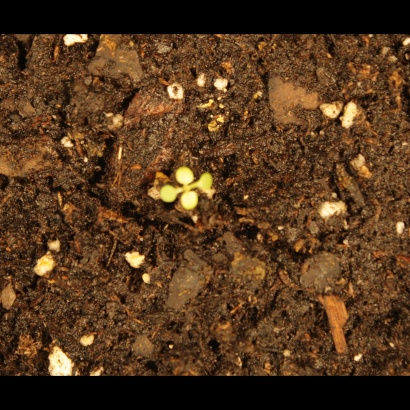leaf: (173, 162, 199, 187), (157, 183, 180, 206), (196, 170, 219, 193), (179, 188, 202, 211)
